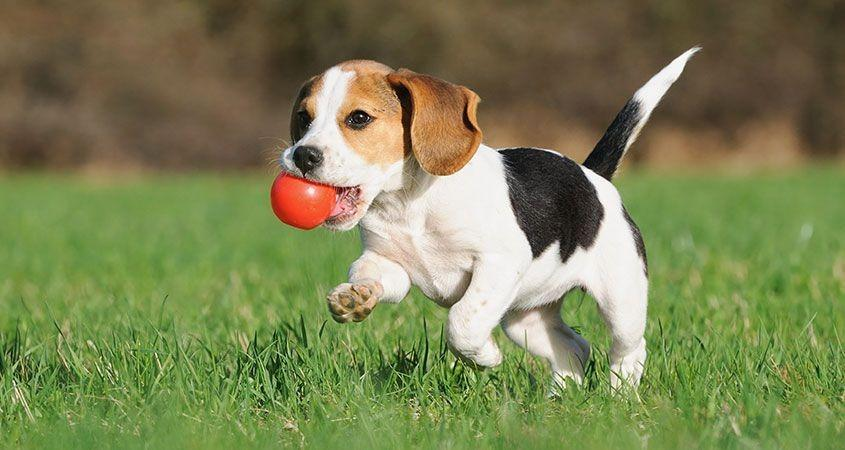puppy-dog: (278, 43, 706, 393)
